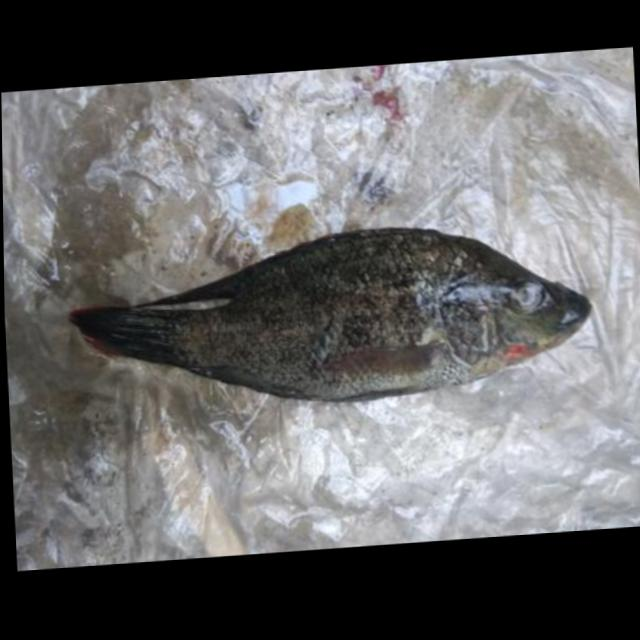Tilapia: (66, 214, 599, 420)
